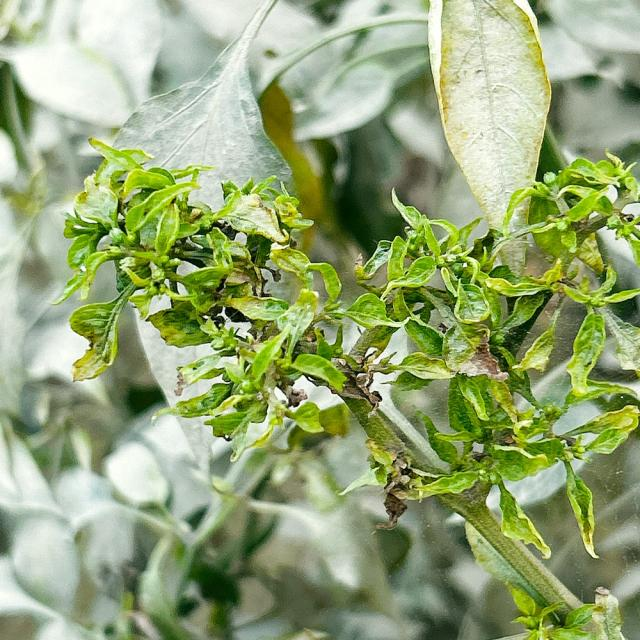Chilli_Leaf_Curl: (52, 1, 638, 635), (51, 135, 315, 383), (425, 0, 552, 239)
